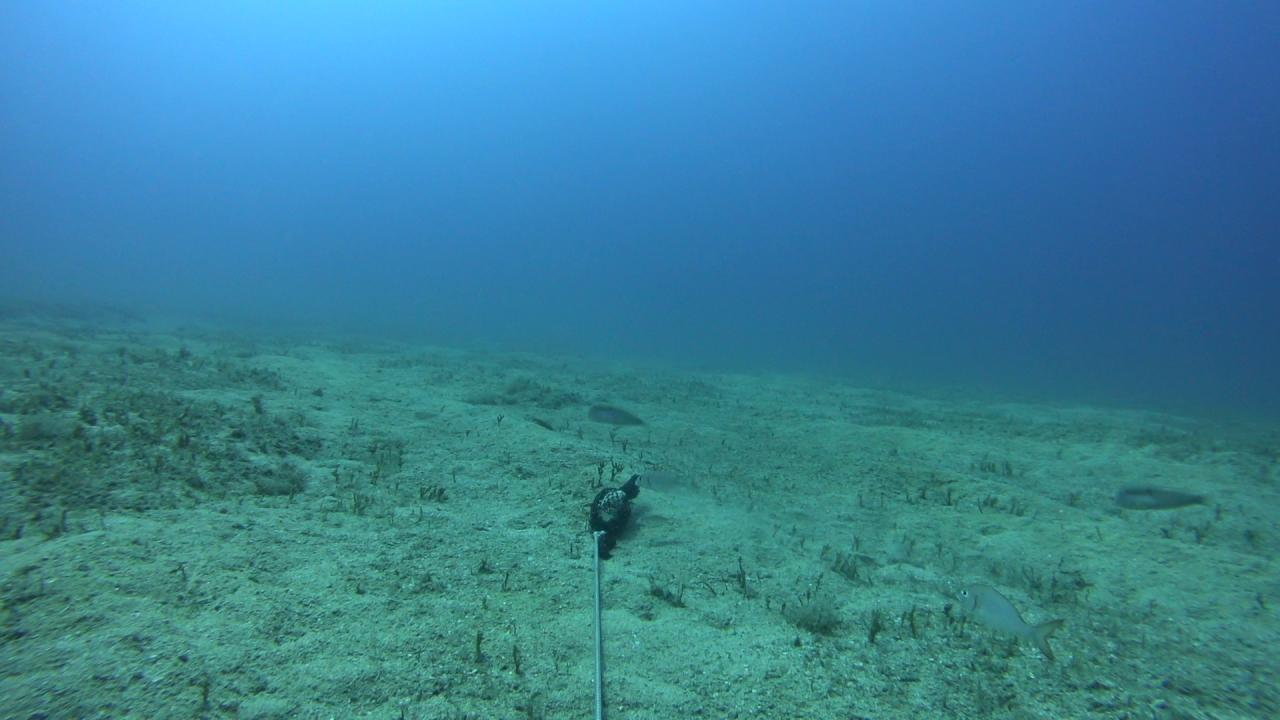pagellus: (955, 580, 1064, 664), (635, 467, 694, 494), (639, 509, 676, 528)
raor: (1113, 480, 1219, 511), (582, 402, 652, 431)
